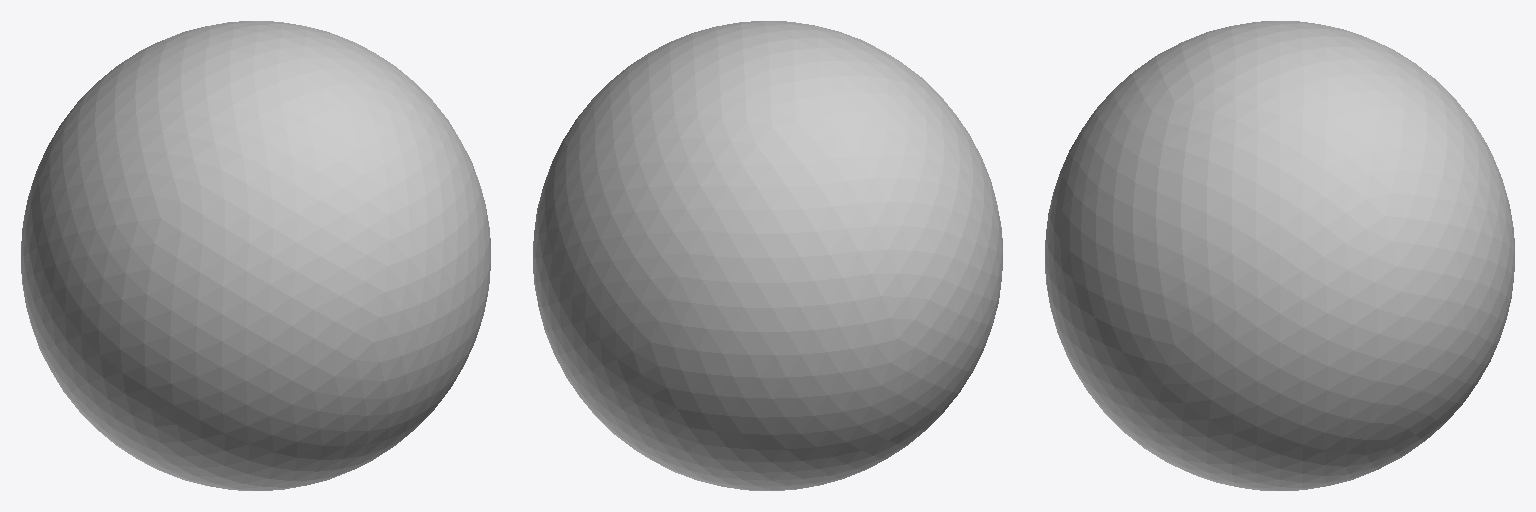
The picture shows the model from 3 angles: view 1: azimuth 30°, elevation 25°; view 2: azimuth 150°, elevation 25°; view 3: azimuth 270°, elevation 25°; orthographic projection.
Parts seen in each view (by area): view 1: GeoSphere01; view 2: GeoSphere01; view 3: GeoSphere01.
Boxes of the visible parts, x1,y1,x2,y2 form: GeoSphere01: [21, 21, 490, 490]; GeoSphere01: [533, 21, 1002, 490]; GeoSphere01: [1045, 21, 1514, 490].
Size of the model in its own units: 99.8 by 100 by 100.